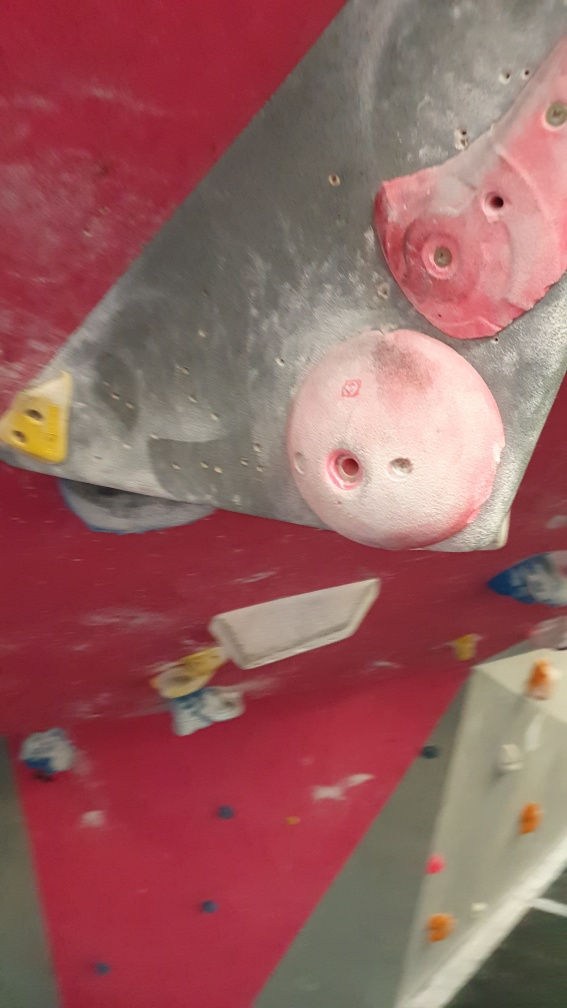Crimp: (1, 374, 78, 470)
Pinch: (206, 577, 385, 671)
Sloper: (286, 327, 507, 555)
